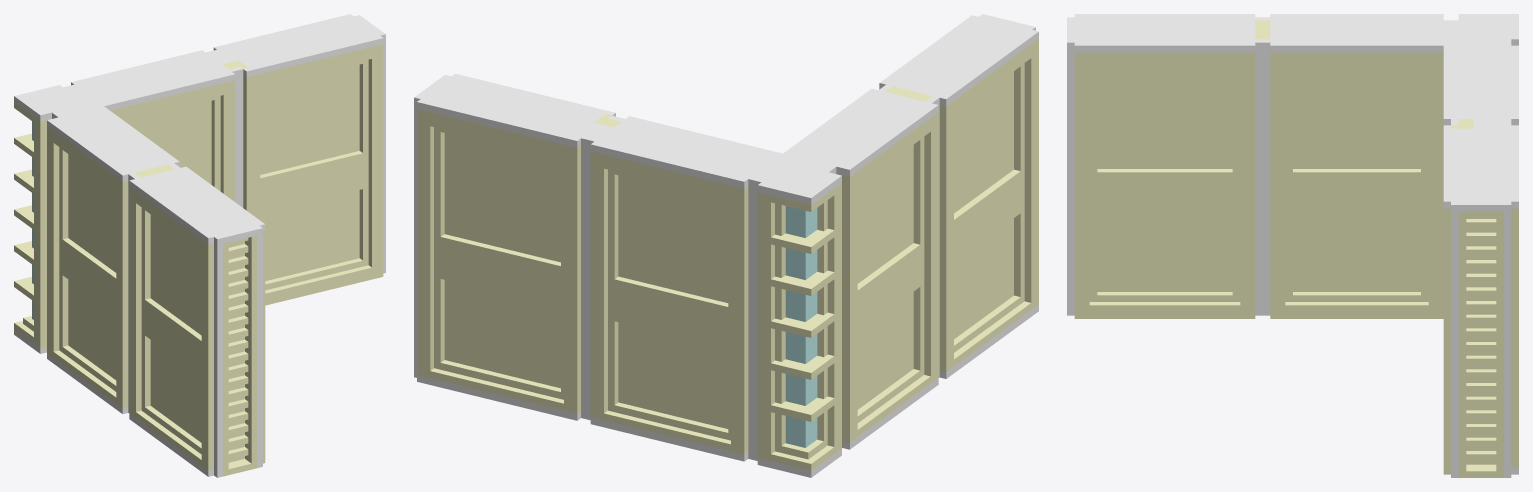
The model's file is Med Bay Corner.obj.
The picture shows the model from 3 angles, left to right: view 1: azimuth 30°, elevation 25°; view 2: azimuth 150°, elevation 25°; view 3: azimuth 270°, elevation 25°; orthographic projection. The views are drawn at different scales.
Size of the model in its own units: 60 by 40 by 60.
1 material, 1 textured.
